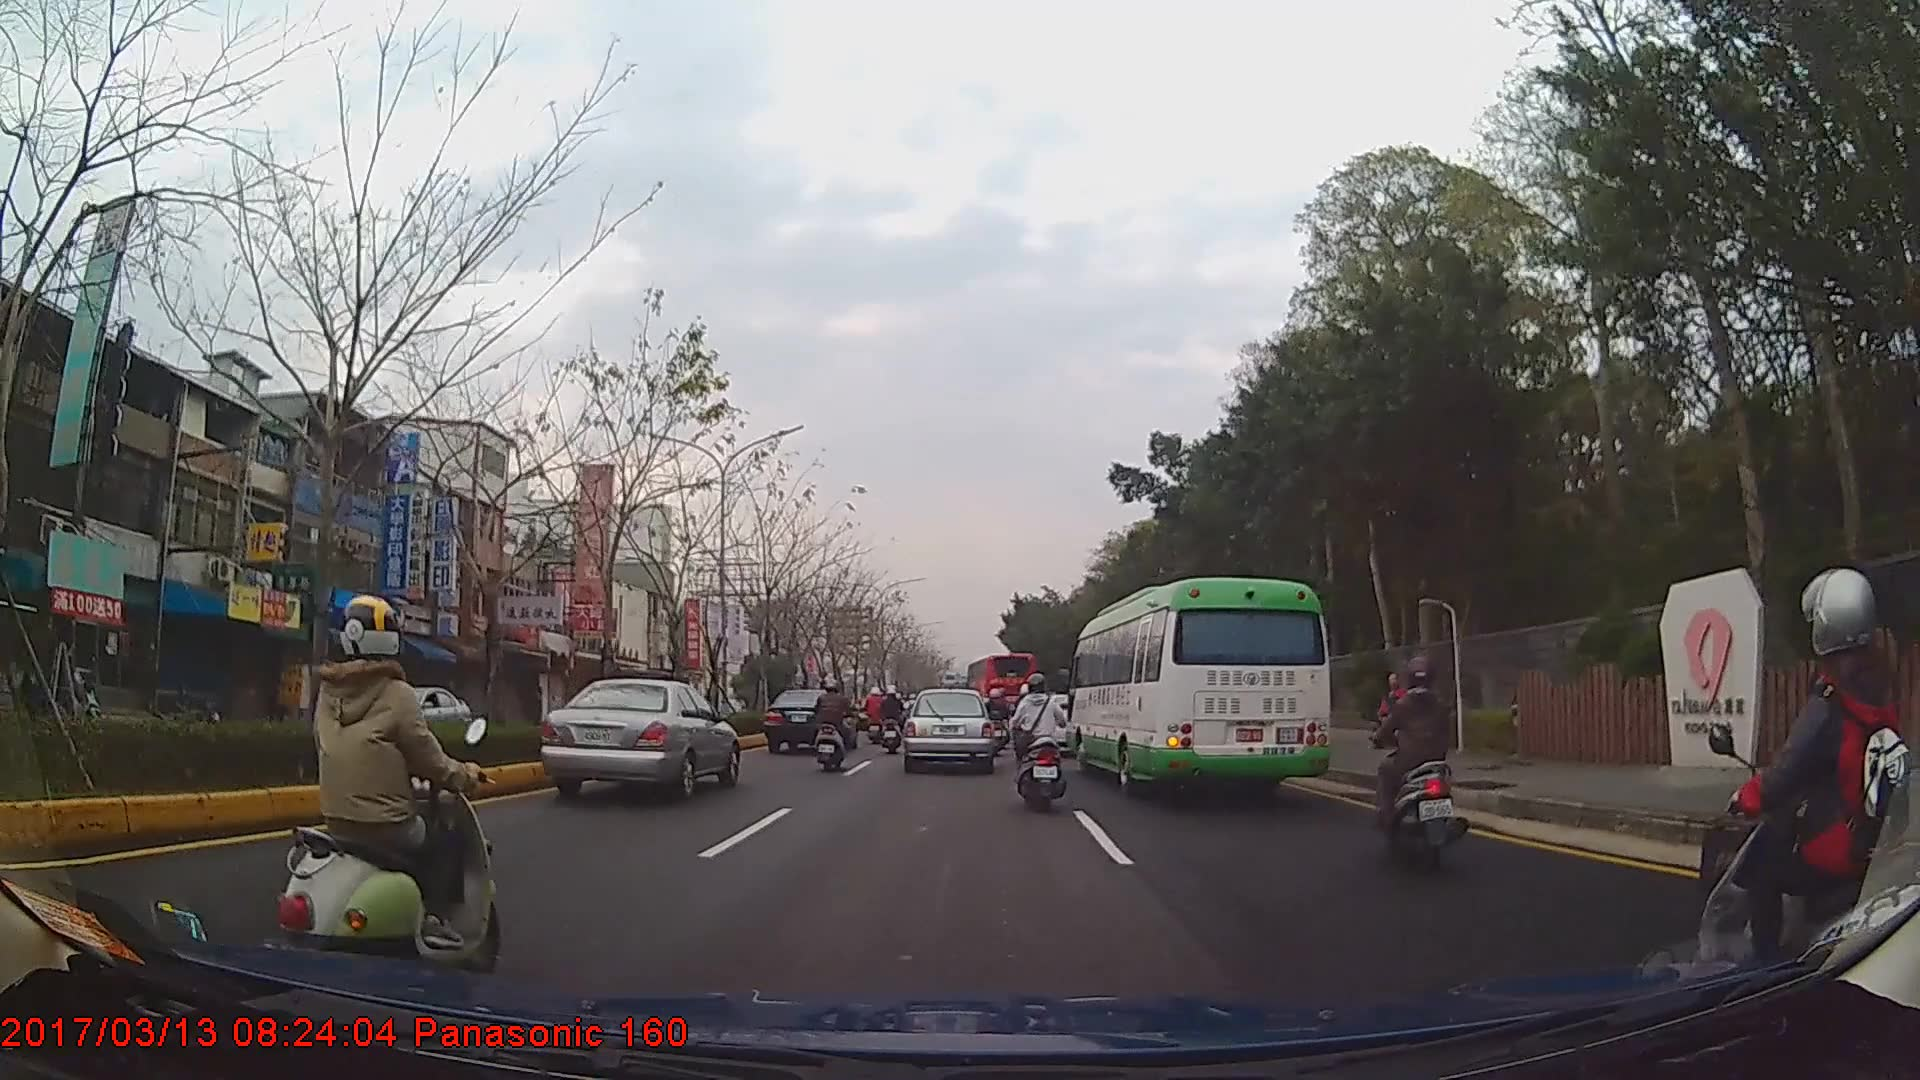pedestrian: (1369, 673, 1413, 751)
rider: (1698, 558, 1920, 1047), (265, 593, 500, 1017), (1367, 652, 1472, 865), (1004, 674, 1064, 812), (813, 677, 853, 772), (878, 685, 903, 754), (861, 686, 888, 746), (983, 688, 1008, 744)
vehicle: (1064, 576, 1332, 796), (540, 676, 739, 803), (347, 677, 474, 741), (902, 687, 997, 773), (764, 685, 860, 753), (966, 650, 1035, 719)
